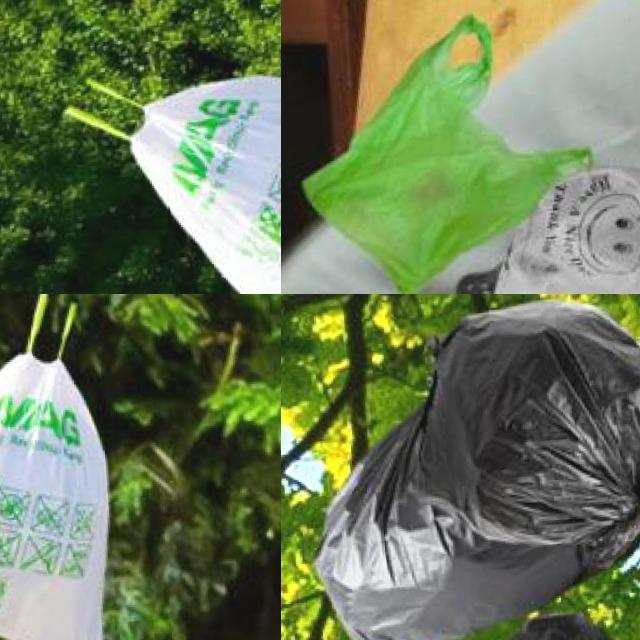waste: (294, 294, 640, 640), (296, 8, 600, 286), (0, 342, 148, 640), (131, 54, 281, 294), (496, 151, 640, 294)
